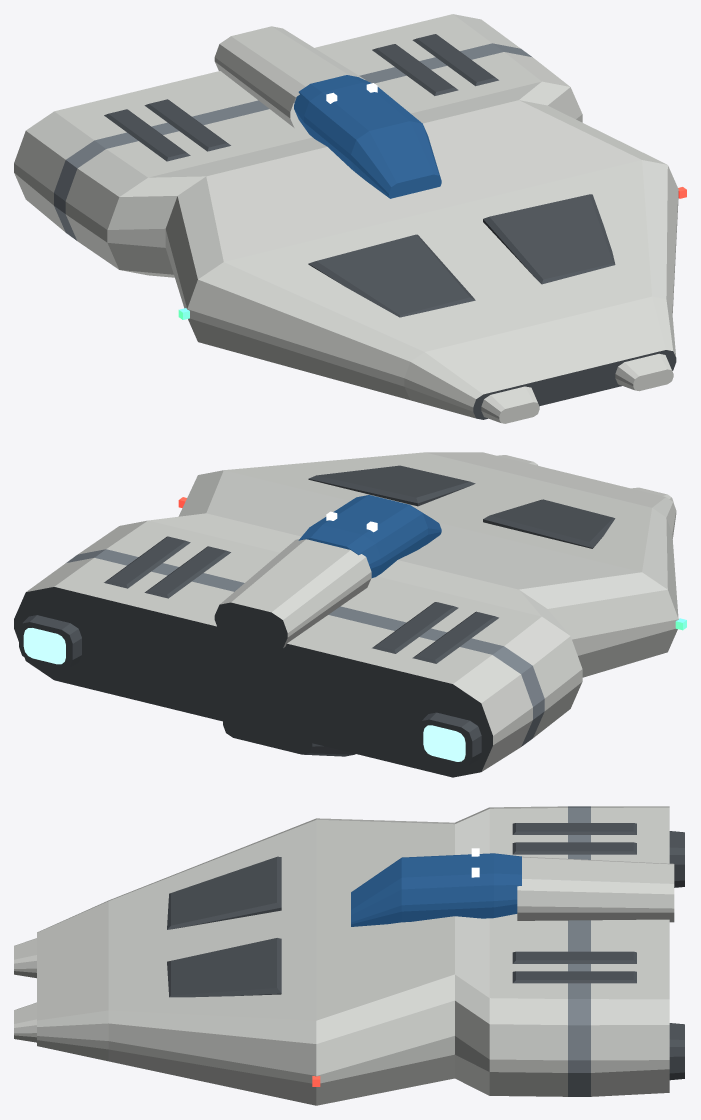
Rendered from viper-mk4.glb.
The picture shows the model from 3 angles, top to bottom: view 1: azimuth 30°, elevation 25°; view 2: azimuth 150°, elevation 25°; view 3: azimuth 270°, elevation 25°; orthographic projection.
Parts seen in each view (by area): view 1: viper-mk4; view 2: viper-mk4; view 3: viper-mk4.
Boxes of the visible parts, x1,y1,x2,y2 form: viper-mk4: (14,14,686,423); viper-mk4: (14,452,686,777); viper-mk4: (14,806,684,1105).
Bounding box in the file's own units: 24.83 × 9.01 × 29.16.
